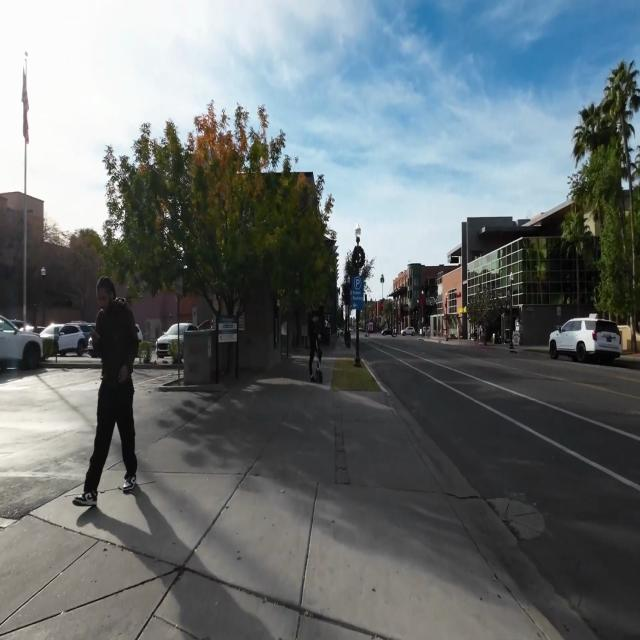road: (358, 338, 640, 622)
side walk: (0, 385, 600, 639)
